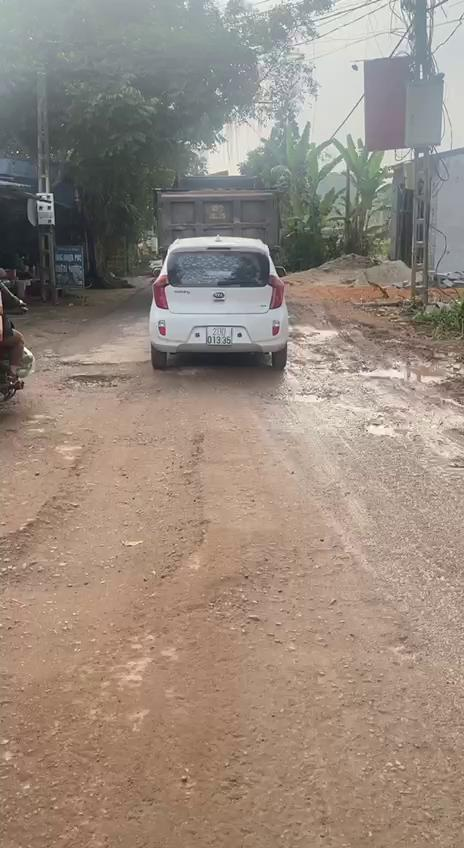pothole: (0, 436, 204, 598), (59, 369, 132, 397), (270, 386, 342, 406), (362, 413, 398, 441)
